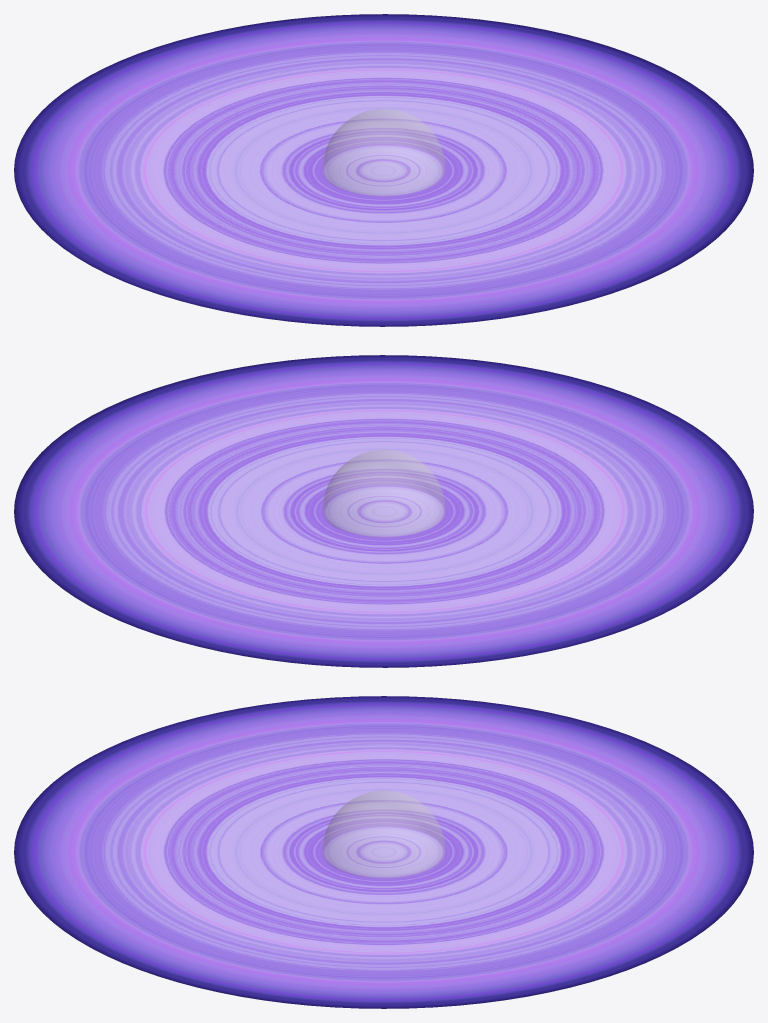
The picture shows the model from 3 angles, top to bottom: view 1: azimuth 30°, elevation 25°; view 2: azimuth 150°, elevation 25°; view 3: azimuth 270°, elevation 25°; orthographic projection.
Parts seen in each view (by area): view 1: BezierCircle.010, Sphere.010; view 2: BezierCircle.010, Sphere.010; view 3: BezierCircle.010, Sphere.010.
Part boxes in pixels (box(x1,y1,x2,y2)): BezierCircle.010: box(14, 14, 753, 326); Sphere.010: box(322, 109, 445, 196); BezierCircle.010: box(14, 355, 753, 667); Sphere.010: box(322, 450, 445, 537); BezierCircle.010: box(14, 696, 753, 1008); Sphere.010: box(322, 791, 445, 878).
Bounding box in the file's own units: 11.96 × 2 × 11.96.
Materials: 2 (1 with a texture image).
